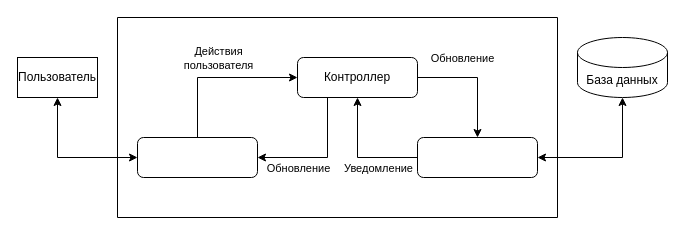
This 685x236 diagram has some shape labels left out. Each missing label, with the box of its shape:
Модель: (416, 136, 538, 178)
Представление: (136, 136, 258, 178)
